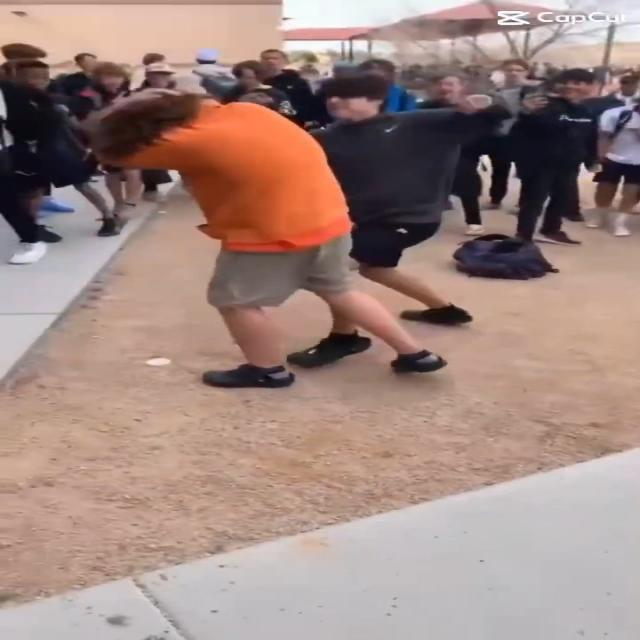fight: (90, 77, 492, 391)
